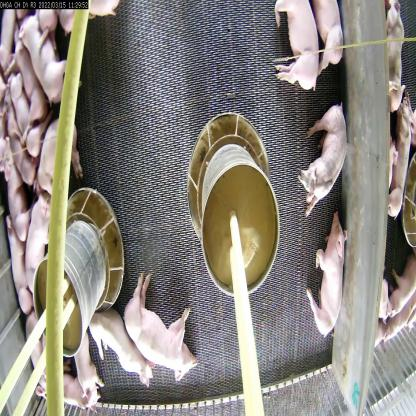Pig: (124, 270, 198, 383), (268, 0, 322, 105), (300, 100, 350, 212), (307, 209, 347, 349), (87, 314, 152, 390), (31, 118, 87, 195), (304, 0, 354, 78), (17, 23, 69, 97), (2, 212, 30, 324), (0, 128, 28, 239), (70, 333, 105, 415), (20, 190, 52, 270), (7, 69, 38, 142), (16, 33, 41, 120), (25, 307, 50, 392), (36, 378, 90, 416)
